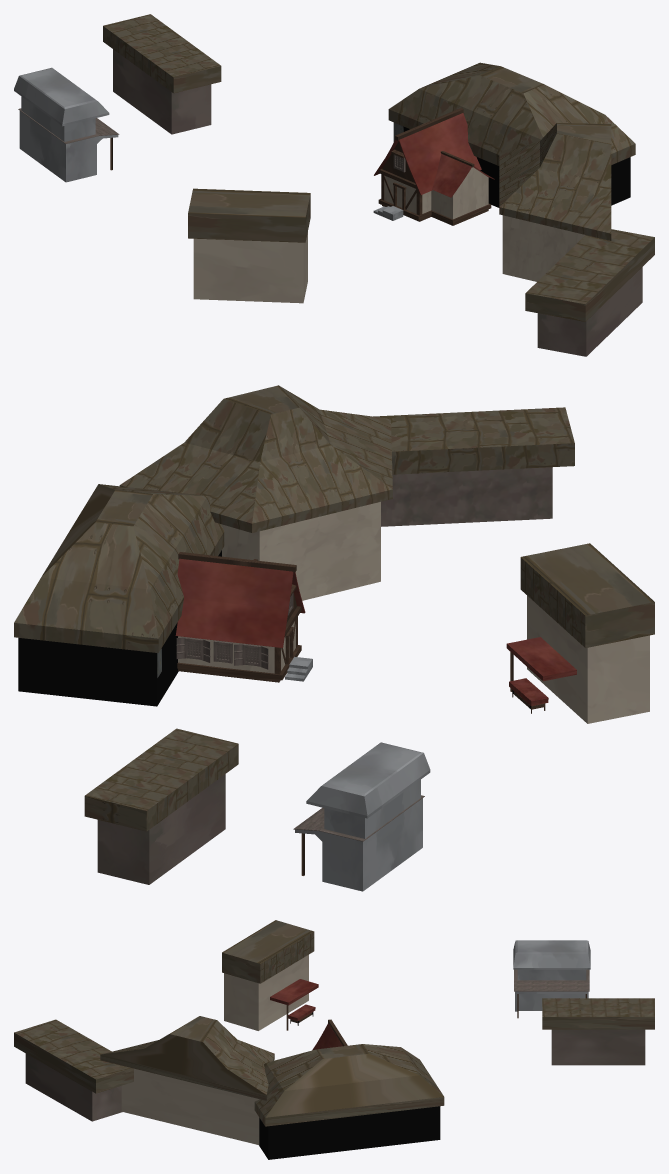
Rendered from rest_v2.glb.
The picture shows the model from 3 angles, top to bottom: view 1: azimuth 30°, elevation 25°; view 2: azimuth 150°, elevation 25°; view 3: azimuth 270°, elevation 25°; orthographic projection. The views are drawn at different scales.
Visible parts, largest first — view 1: Cube; view 2: Cube; view 3: Cube.
Part boxes in pixels (box(x1,y1,x2,y2)): Cube: box(14, 14, 654, 356); Cube: box(14, 385, 654, 891); Cube: box(14, 920, 654, 1159).
Bounding box in the file's own units: 36.97 × 9.99 × 58.41.
9 materials, 9 textured.
